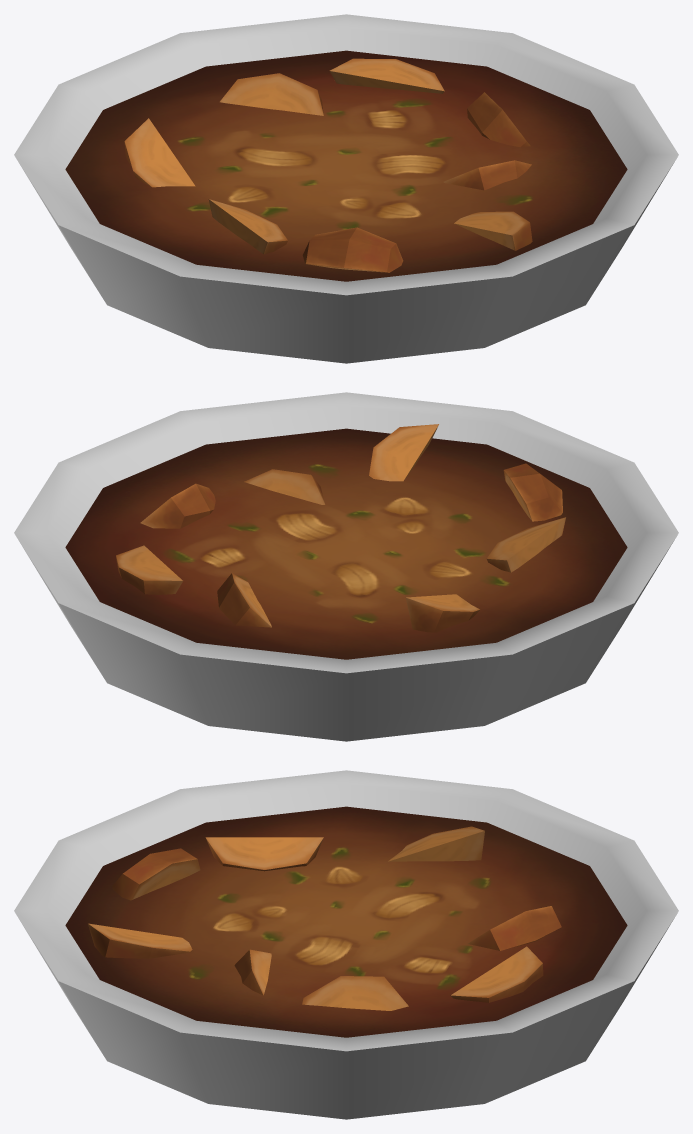
File: Soup_1.fbx
3 views of the same model, one above another, from view 1: azimuth 30°, elevation 25°; view 2: azimuth 150°, elevation 25°; view 3: azimuth 270°, elevation 25° (orthographic).
Visible parts, largest first — view 1: st_floor_polySurface273; view 2: st_floor_polySurface273; view 3: st_floor_polySurface273.
Boxes of the visible parts, <box> form: st_floor_polySurface273: <box>14,14,678,363</box>; st_floor_polySurface273: <box>14,392,678,741</box>; st_floor_polySurface273: <box>14,770,678,1119</box>.
Size of the model in its own units: 0.7976 by 0.1447 by 0.7976.
